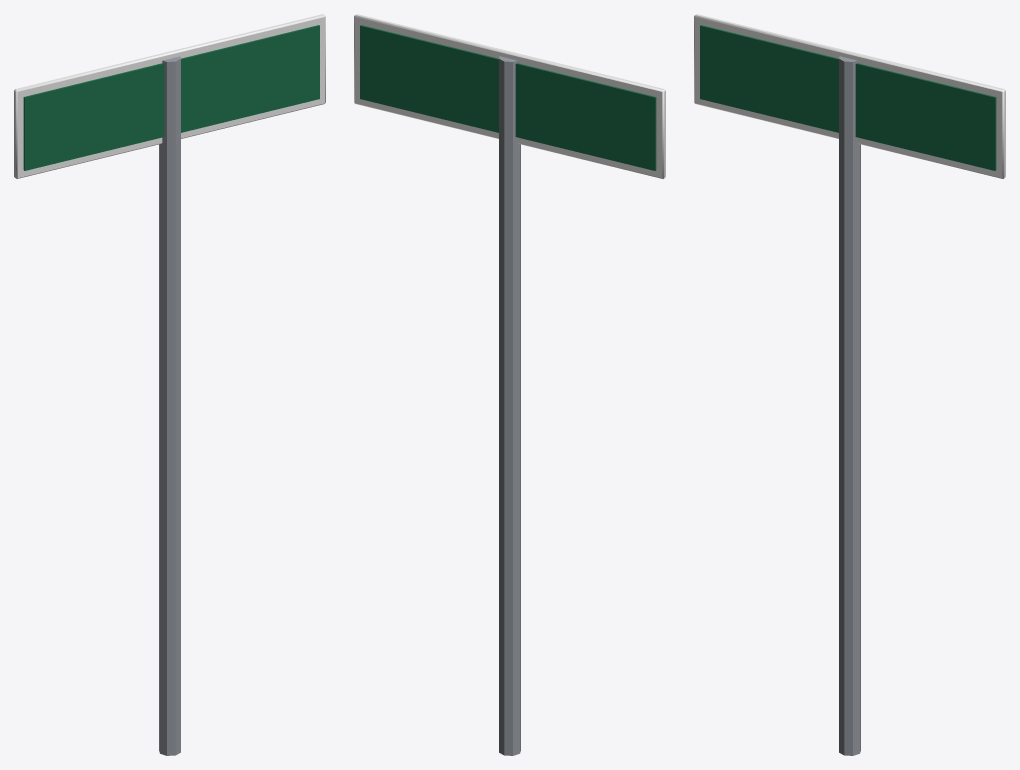
The model's file is sign_post.glb.
3 views of the same model, side by side, from view 1: azimuth 30°, elevation 25°; view 2: azimuth 150°, elevation 25°; view 3: azimuth 330°, elevation 25° (orthographic).
Parts seen in each view (by area): view 1: PROP_sign_post; view 2: PROP_sign_post; view 3: PROP_sign_post.
Boxes of the visible parts, <box> form: PROP_sign_post: <box>14,14,325,755</box>; PROP_sign_post: <box>354,14,665,755</box>; PROP_sign_post: <box>694,14,1005,755</box>.
Size of the model in its own units: 1.24 by 2.67 by 0.08.
